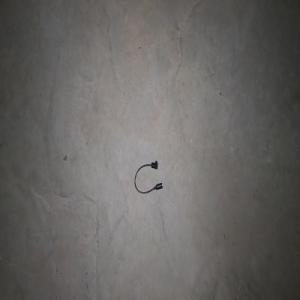Wire: (134, 160, 163, 193)
